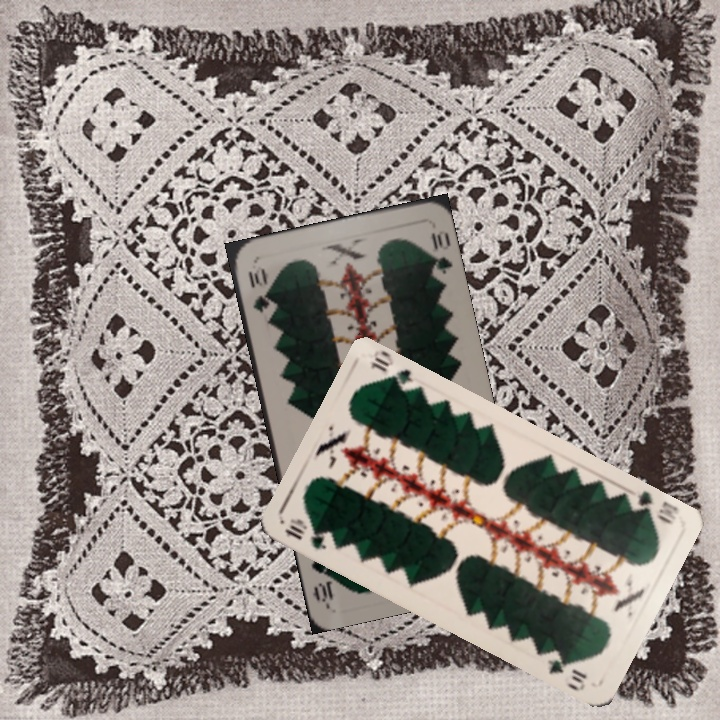G10: (630, 487, 681, 527), (280, 514, 330, 553), (244, 262, 272, 315)
